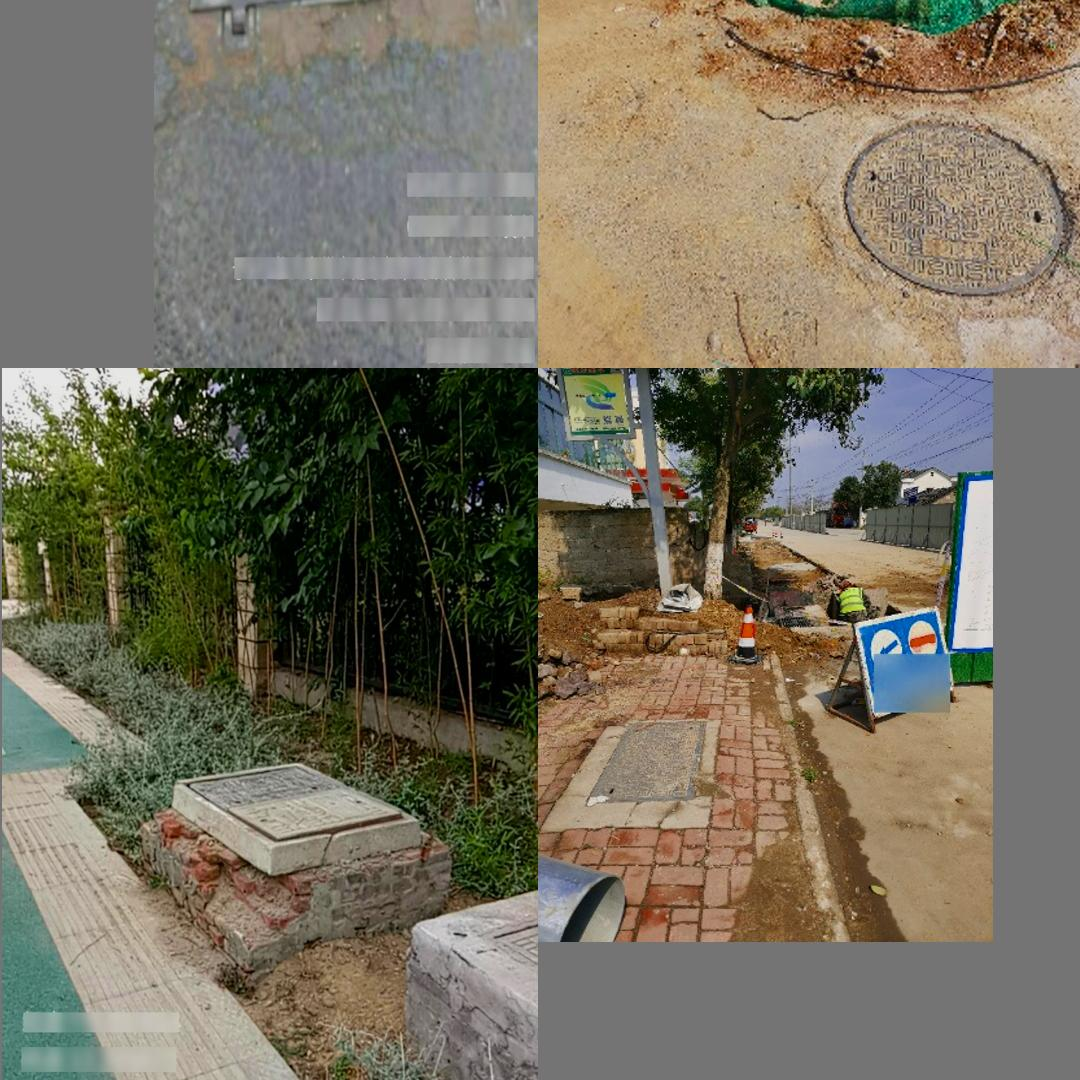good: (845, 119, 1069, 296), (177, 761, 417, 846), (188, 0, 524, 47), (578, 716, 709, 805)
